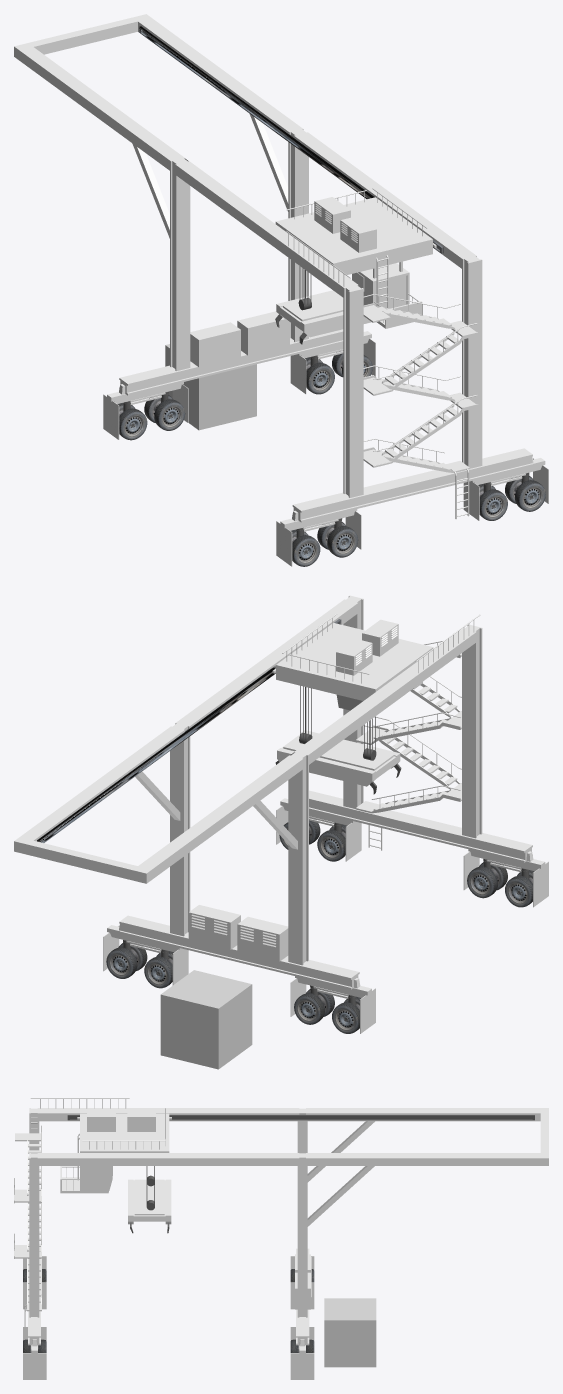
The model's file is crane_harbour2.glb.
The picture shows the model from 3 angles, top to bottom: view 1: azimuth 30°, elevation 25°; view 2: azimuth 150°, elevation 25°; view 3: azimuth 270°, elevation 25°; orthographic projection. The views are drawn at different scales.
Parts seen in each view (by area): view 1: Harbour Crane_0, Cube, spreader; view 2: Harbour Crane_0, Cube, spreader, HoistRopesandclaws; view 3: Harbour Crane_0, Cube, spreader.
Boxes of the visible parts, x1=… form: Harbour Crane_0: x1=14, y1=14, x2=548, y2=566; Cube: x1=165, y1=344, x2=256, y2=430; spreader: x1=277, y1=290, x2=365, y2=334; Harbour Crane_0: x1=14, y1=595, x2=548, y2=1033; Cube: x1=160, y1=970, x2=252, y2=1069; spreader: x1=277, y1=730, x2=399, y2=786; HoistRopesandclaws: x1=275, y1=686, x2=400, y2=794; Harbour Crane_0: x1=14, y1=1098, x2=548, y2=1379; Cube: x1=324, y1=1298, x2=376, y2=1367; spreader: x1=128, y1=1179, x2=171, y2=1224.
Size of the model in its own units: 8.97 by 10.1 by 20.62.
7 materials, 1 textured.
